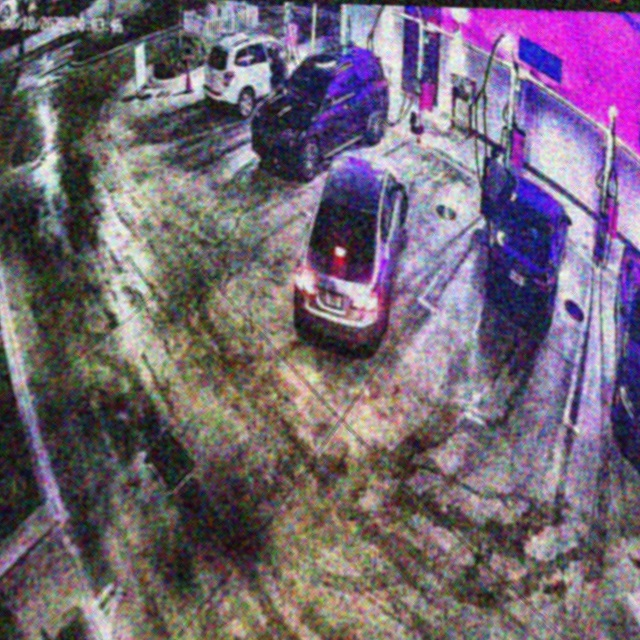Car: (291, 151, 414, 351), (250, 44, 393, 180), (483, 158, 577, 325)
